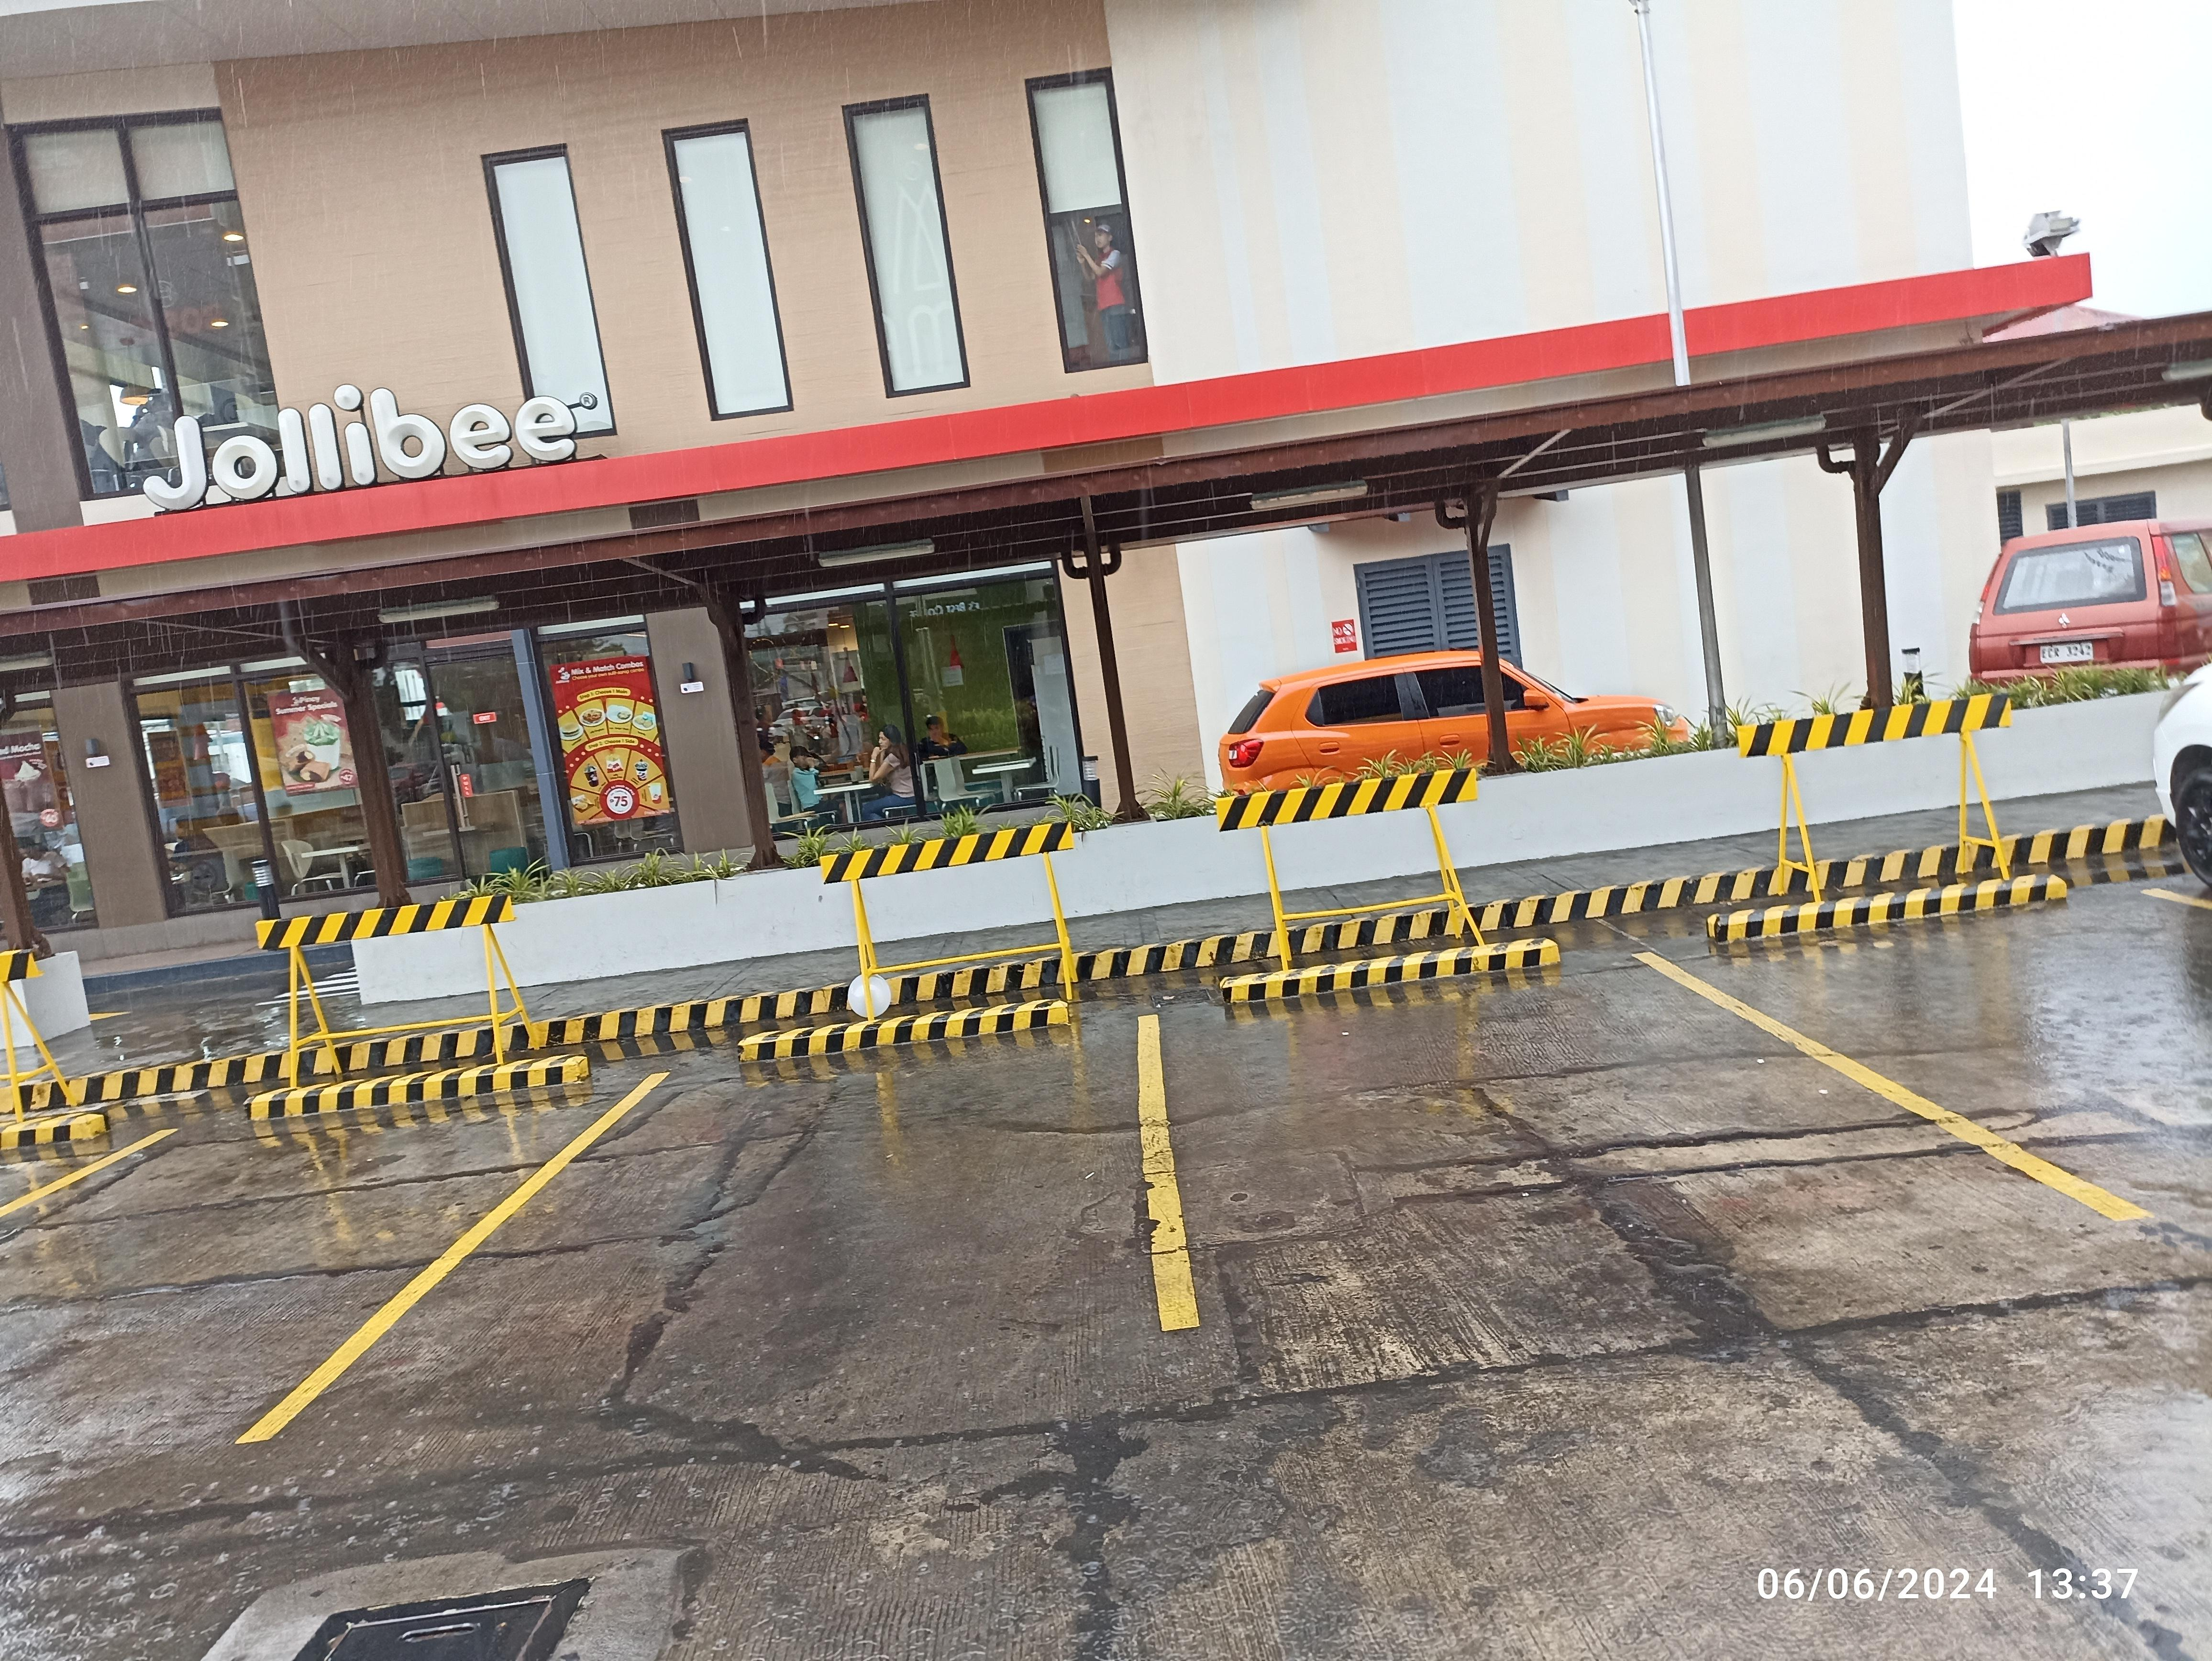vacant: (230, 988, 1197, 1446), (1129, 961, 2100, 1335)
